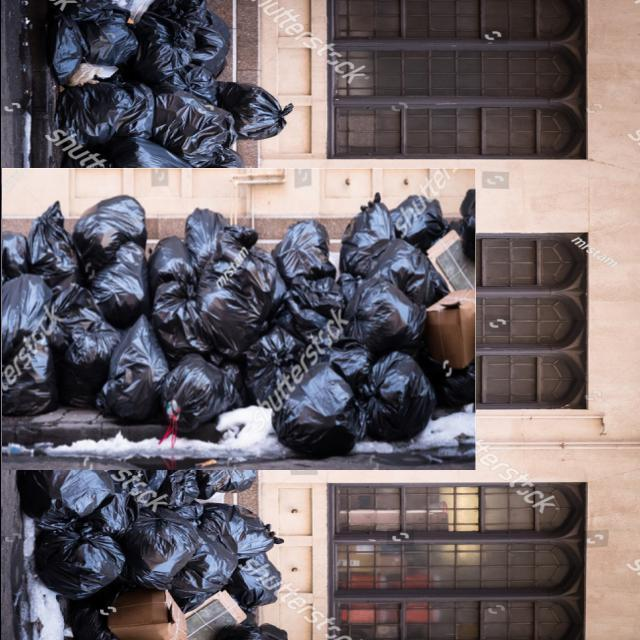Trashbag: (0, 268, 54, 415), (34, 512, 124, 600), (62, 78, 158, 157), (274, 362, 360, 447), (40, 8, 140, 78), (192, 262, 268, 348), (45, 315, 114, 408), (108, 324, 173, 418), (159, 83, 233, 164), (18, 466, 122, 522), (366, 362, 434, 445), (9, 211, 85, 280), (117, 513, 183, 588), (170, 358, 240, 427), (147, 0, 199, 92), (224, 78, 294, 141), (356, 280, 423, 345), (74, 194, 144, 255), (128, 237, 199, 297), (176, 541, 235, 610), (88, 244, 144, 312), (340, 199, 392, 272), (281, 217, 335, 276), (211, 500, 276, 549), (375, 244, 437, 289)
